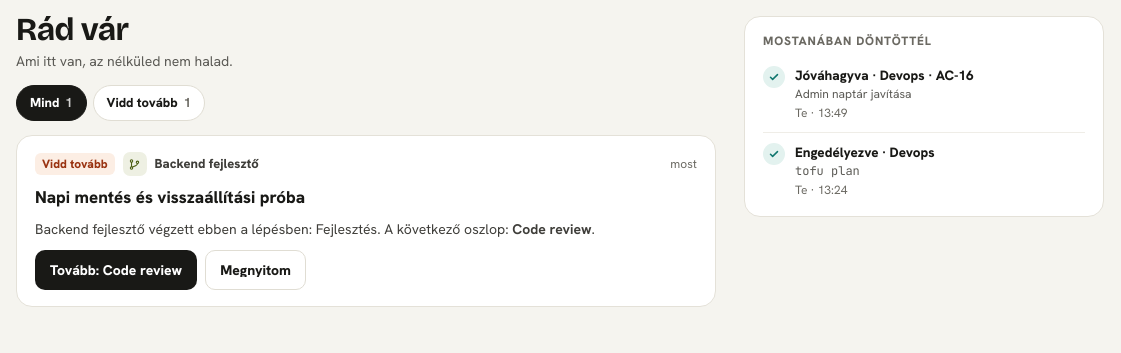
it: "Vidd tovább" in the inbox (PM-461) › keeps the item and shows the gate error on the card when the move is refused
The width and height of the screenshot is (1121, 353).
Step 1. Click the button "Tovább: Code review" → coordinates (116, 270), box top-left (35, 250), bottom-right (197, 290)
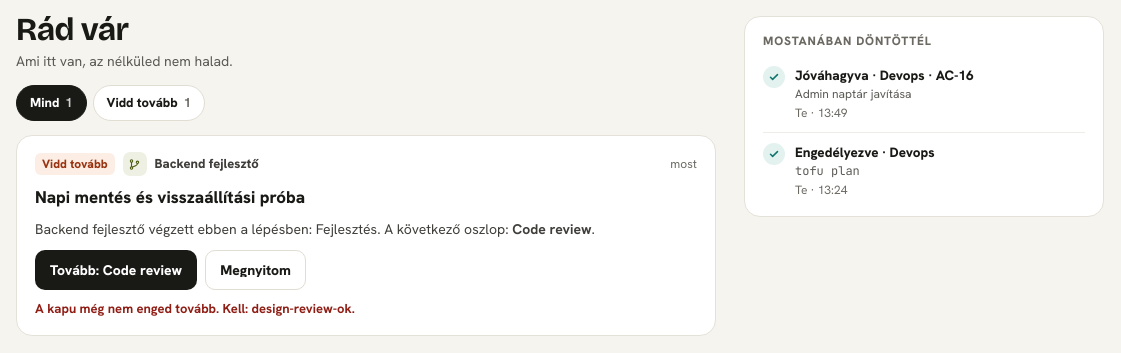
Expected: the element that starts with "Vidd tovább" is shown, top-left (16, 136), bottom-right (716, 336)
Expected: the message shows "A kapu még nem enged tovább", top-left (35, 300), bottom-right (355, 317)
